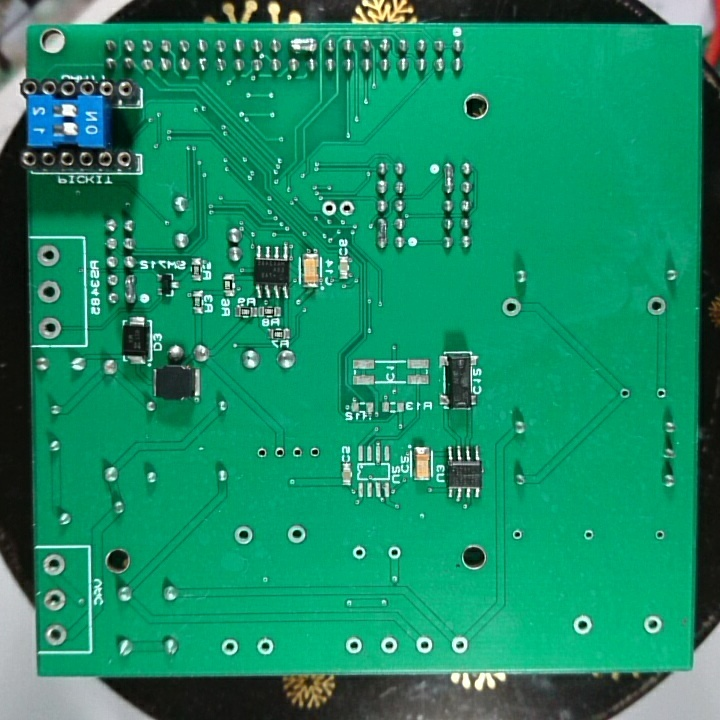F: (33, 241, 62, 271), (35, 277, 64, 307), (39, 550, 69, 578), (35, 314, 66, 341), (40, 588, 68, 616), (570, 612, 597, 640), (42, 621, 71, 647), (644, 292, 670, 320), (447, 632, 473, 659), (640, 612, 667, 638), (499, 294, 526, 320), (232, 523, 256, 552), (284, 522, 309, 547), (342, 634, 367, 659), (376, 633, 400, 659), (413, 632, 435, 657), (253, 635, 276, 658), (337, 196, 358, 221), (219, 636, 240, 661), (348, 543, 369, 566), (287, 442, 306, 466), (384, 543, 405, 564), (319, 198, 338, 220), (507, 526, 527, 546), (270, 443, 287, 466), (307, 441, 323, 464), (580, 526, 598, 544), (653, 384, 670, 403), (616, 385, 633, 403), (254, 444, 270, 463), (652, 526, 668, 544)
P: (287, 33, 319, 55), (120, 271, 139, 307), (441, 160, 459, 197), (374, 215, 388, 250)
